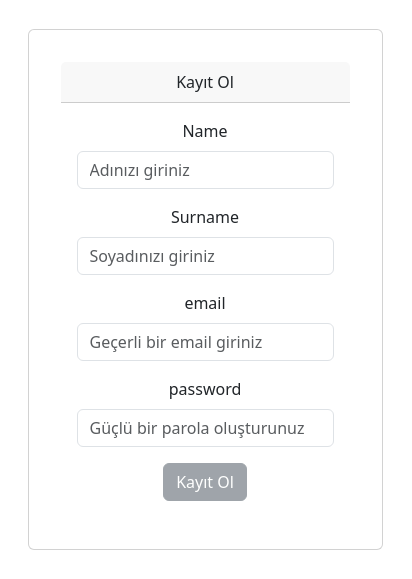
it: Login Page › Error Messages › ad 2 karakterse error mesajı yazsın
This screenshot has width=412, height=579.
Type "me" into the field with test id "ad-input" at (206, 170), box [77,151,334,189]
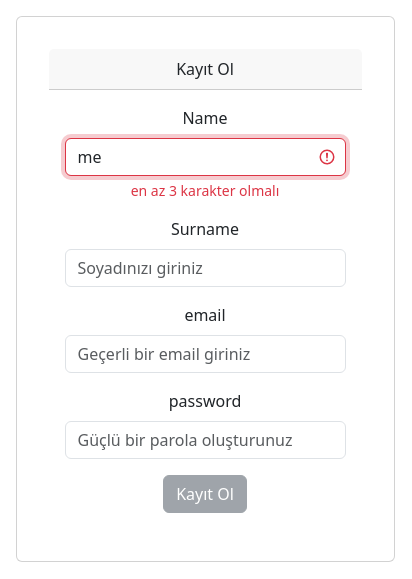
Expected: the text "en az 3 karakter olmalı" is shown, [131,181,279,200]
